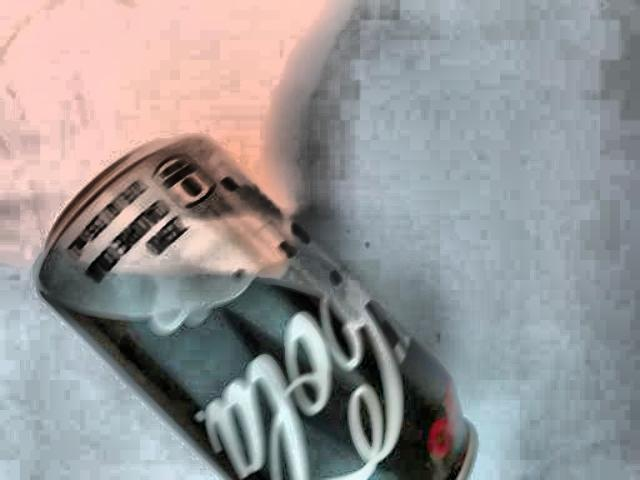Bottles: (8, 103, 488, 480)
